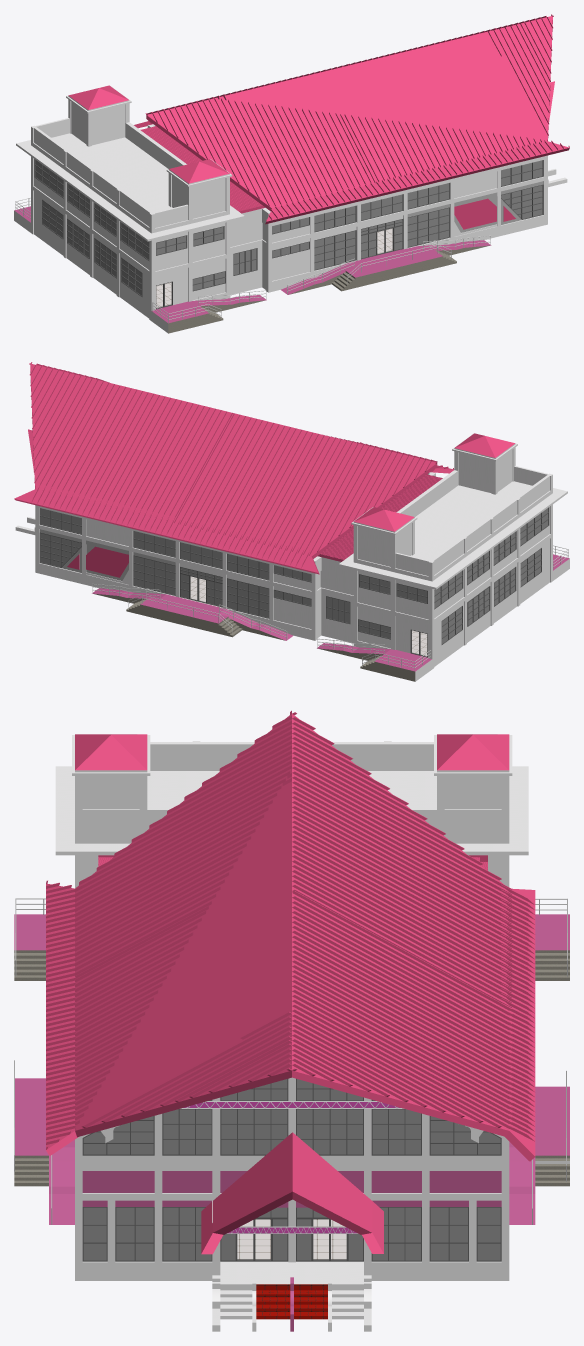
File: Food Innovation Center_compressed.glb
3 renders of one model, top to bottom at view 1: azimuth 30°, elevation 25°; view 2: azimuth 150°, elevation 25°; view 3: azimuth 270°, elevation 25°, orthographic. The views are drawn at different scales.
Parts seen in each view (by area): view 1: 3DGeom-9, 3DGeom-8, 3DGeom-1, 3DGeom-11, 3DGeom-246, 3DGeom-14, 3DGeom-275 (×4), 3DGeom-16, 3DGeom-61 (×2), 3DGeom-4 (×2), 3DGeom-2, 3DGeom-7 (+9 smaller); view 2: 3DGeom-8, 3DGeom-1, 3DGeom-11, 3DGeom-246, 3DGeom-14, 3DGeom-275 (×4), 3DGeom-16, 3DGeom-61 (×2), 3DGeom-4 (×2), 3DGeom-2, 3DGeom-7, 3DGeom-18 (+8 smaller); view 3: 3DGeom-8, 3DGeom-9, 3DGeom-1, 3DGeom-11, 3DGeom-14, 3DGeom-246, 3DGeom-245, 3DGeom-249, 3DGeom-269 (×2), 3DGeom-4 (×2), 3DGeom-265 (×2), 3DGeom-16 (+9 smaller).
Part boxes in pixels (box(x1,y1,x2,y2)): 3DGeom-9: box(147, 31, 569, 224); 3DGeom-8: box(134, 14, 553, 211); 3DGeom-1: box(16, 99, 244, 241); 3DGeom-11: box(14, 169, 567, 333); 3DGeom-246: box(31, 124, 547, 276); 3DGeom-14: box(14, 206, 490, 323); 3DGeom-275 (×4): box(314, 160, 542, 231); 3DGeom-16: box(168, 245, 489, 333); 3DGeom-61 (×2): box(314, 208, 449, 269); 3DGeom-4 (×2): box(68, 85, 229, 183); 3DGeom-2: box(140, 126, 265, 213); 3DGeom-7: box(140, 126, 261, 211); 3DGeom-8: box(14, 362, 437, 574); 3DGeom-1: box(339, 447, 567, 589); 3DGeom-11: box(15, 517, 569, 681); 3DGeom-246: box(35, 472, 552, 624); 3DGeom-14: box(92, 554, 569, 671); 3DGeom-275 (×4): box(40, 508, 269, 579); 3DGeom-16: box(93, 593, 415, 681); 3DGeom-61 (×2): box(134, 556, 269, 617); 3DGeom-4 (×2): box(354, 433, 514, 531); 3DGeom-2: box(317, 474, 441, 561); 3DGeom-7: box(320, 474, 442, 559); 3DGeom-18: box(67, 546, 128, 577); 3DGeom-8: box(75, 710, 535, 1161); 3DGeom-9: box(46, 714, 291, 1155); 3DGeom-1: box(55, 741, 528, 855); 3DGeom-11: box(75, 1161, 569, 1331); 3DGeom-14: box(14, 914, 569, 1331); 3DGeom-246: box(75, 855, 509, 1200); 3DGeom-245: box(201, 1132, 383, 1254); 3DGeom-249: box(82, 1171, 501, 1192); 3DGeom-269 (×2): box(221, 1109, 362, 1153); 3DGeom-4 (×2): box(75, 734, 509, 770); 3DGeom-265 (×2): box(163, 1109, 420, 1153); 3DGeom-16: box(14, 950, 569, 1186).
Size of the model in its own units: 50.64 by 15.38 by 28.61.
16 materials, 6 textured.
